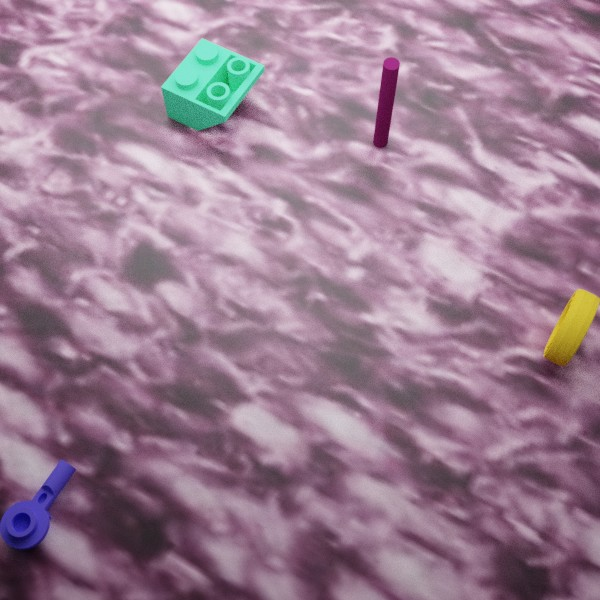lego: (161, 38, 264, 130), (0, 459, 76, 549), (543, 288, 599, 366), (373, 57, 399, 147)
